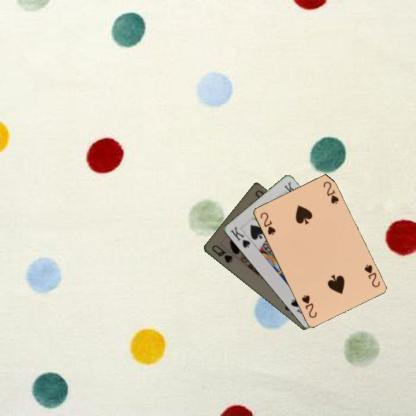2s: (257, 209, 277, 236), (361, 262, 381, 288)
Ks: (227, 224, 251, 249)
Qs: (209, 242, 233, 265)
